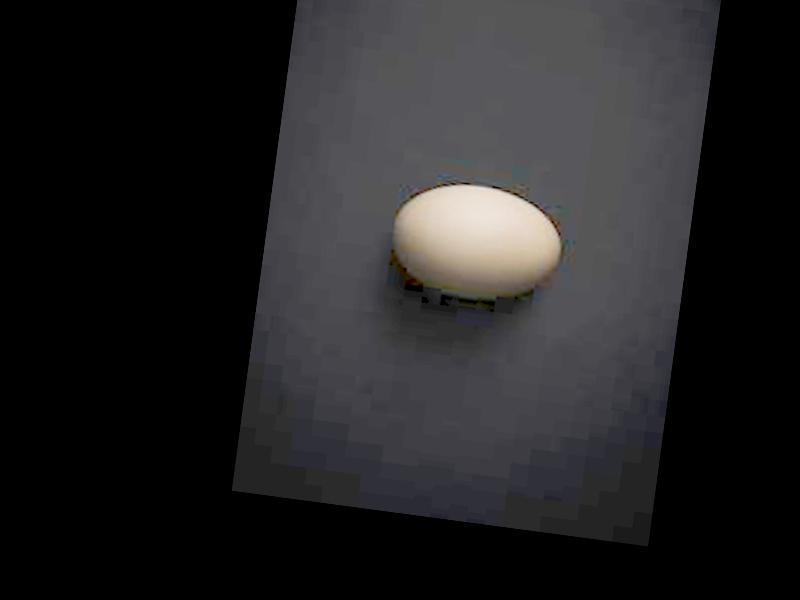Eggs: (384, 175, 571, 305)
